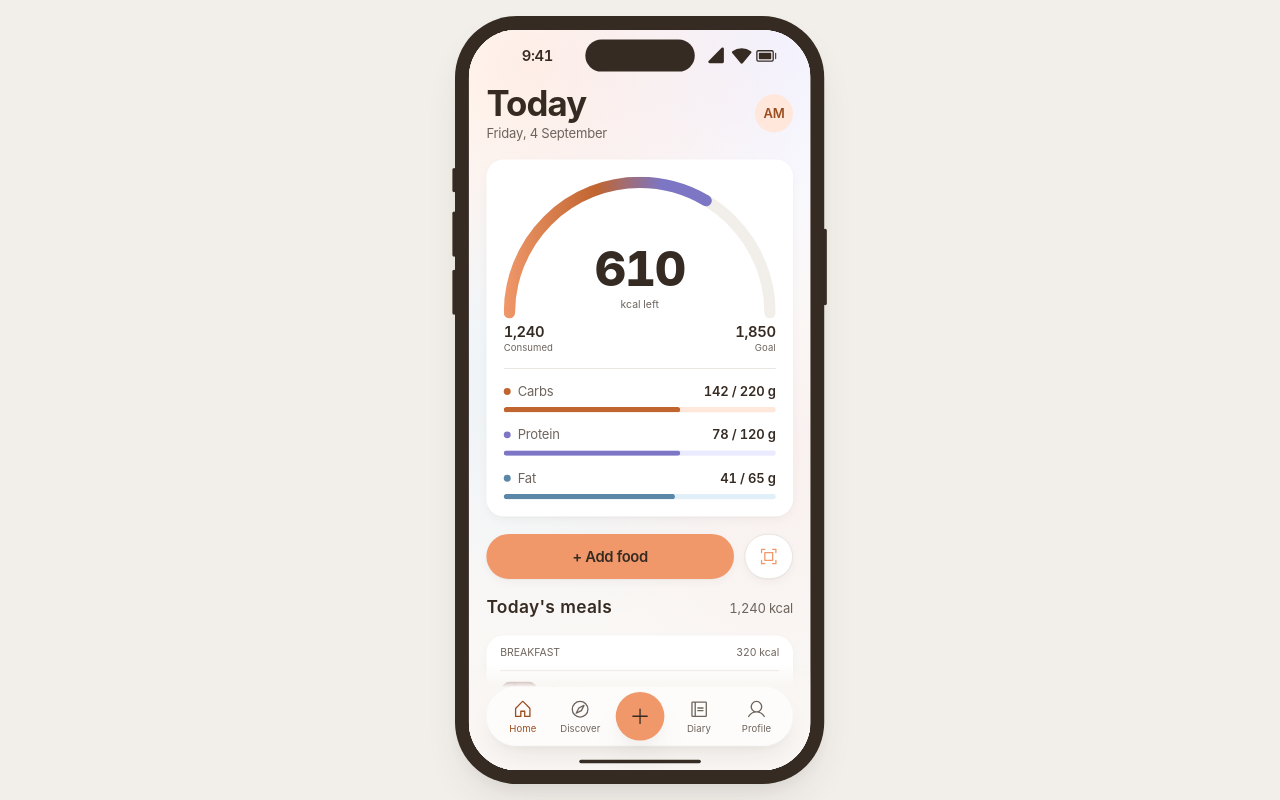
AddSheet › opens from the FAB, names itself, and closes on Escape
Click the button named "Add to diary" at (640, 716), box x1=616 y1=692 x2=664 y2=741
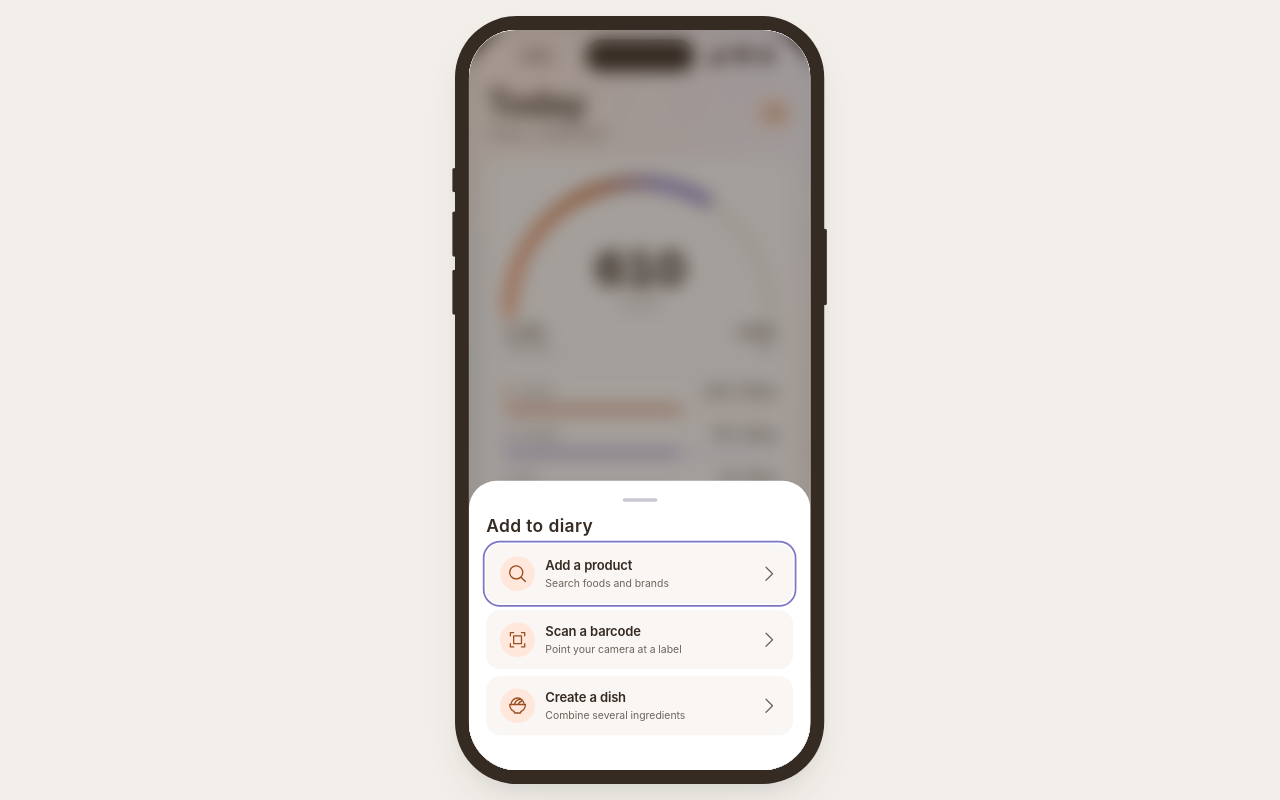
Now the dialog "Add to diary" is shown, box x1=469 y1=481 x2=811 y2=770
Press Escape
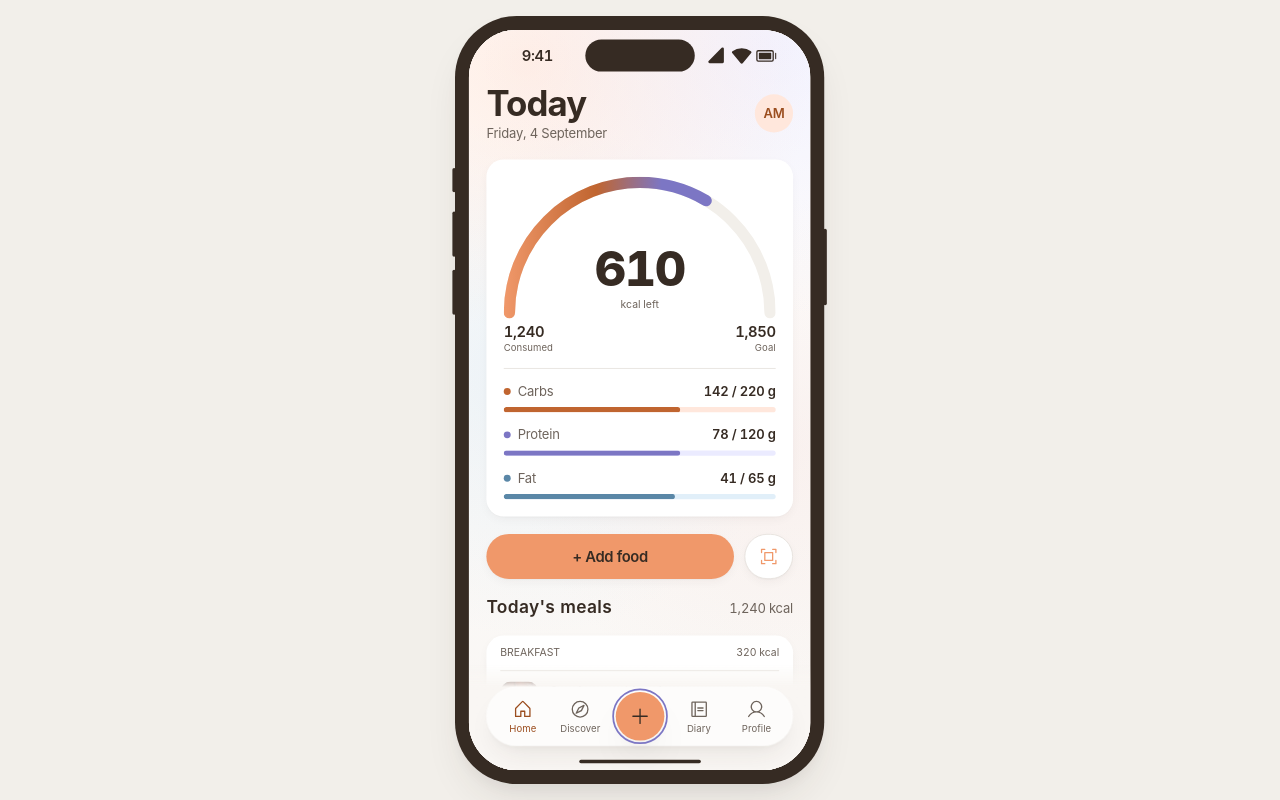
Now the dialog is gone
